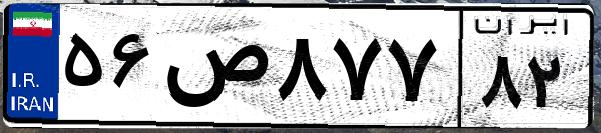2: (525, 38, 570, 115)
5: (57, 26, 110, 100)
6: (110, 28, 158, 98)
7: (385, 28, 445, 110), (330, 28, 385, 110)
8: (270, 28, 330, 110), (475, 38, 525, 113)
ص: (158, 20, 270, 120)
